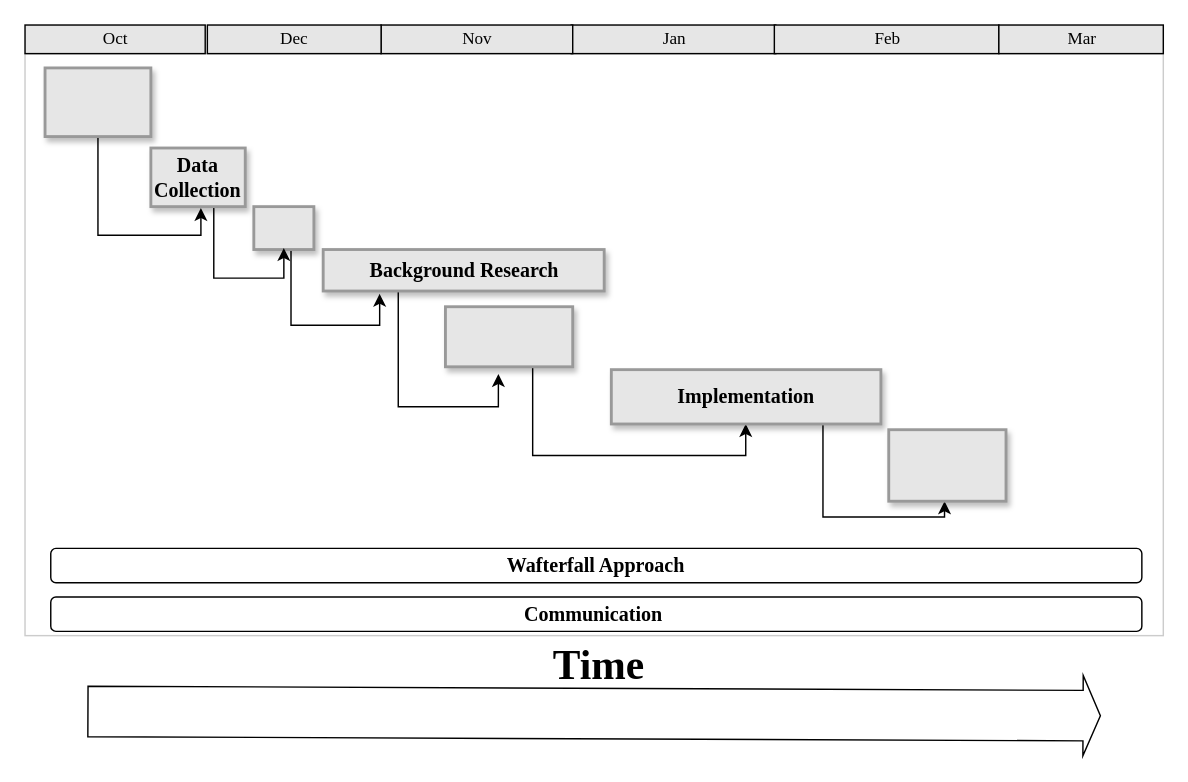
Some shapes in this 1188 by 782 pixel diagram are drawn without their labels. Each missing label, with the centre of its shape:
BREO: [284,229]
Definition Topic: [98,103]
Methodology: [510,338]
Result and Evaluation: [948,467]
